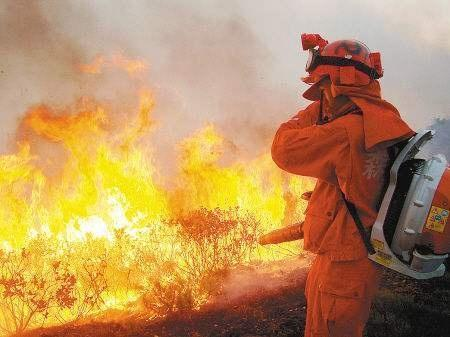fire: (2, 57, 316, 332)
